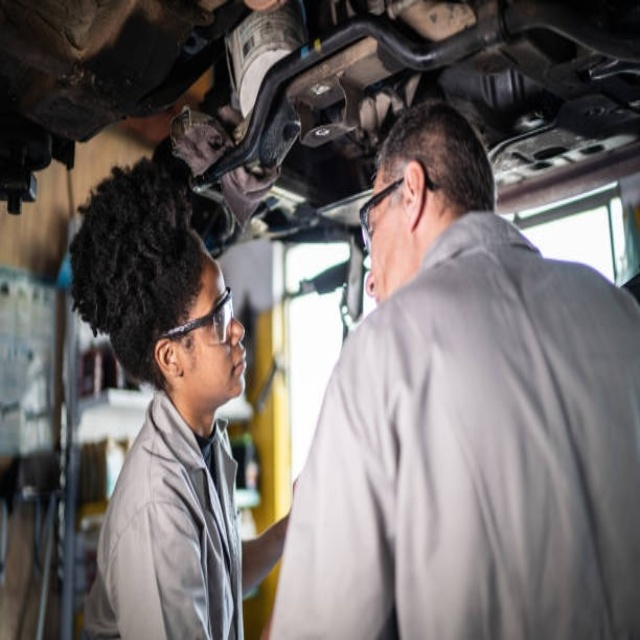Gafas: (360, 162, 437, 246), (158, 288, 235, 348)
Sin_mascara: (229, 334, 254, 395)
